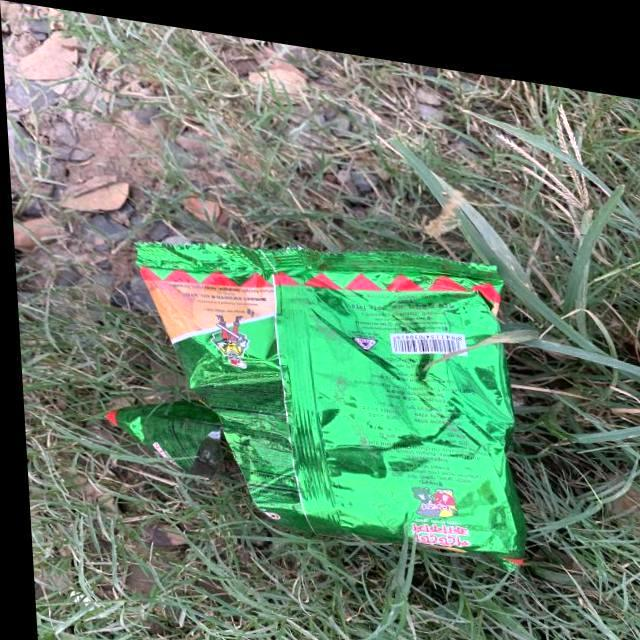packet: (133, 244, 523, 564)
